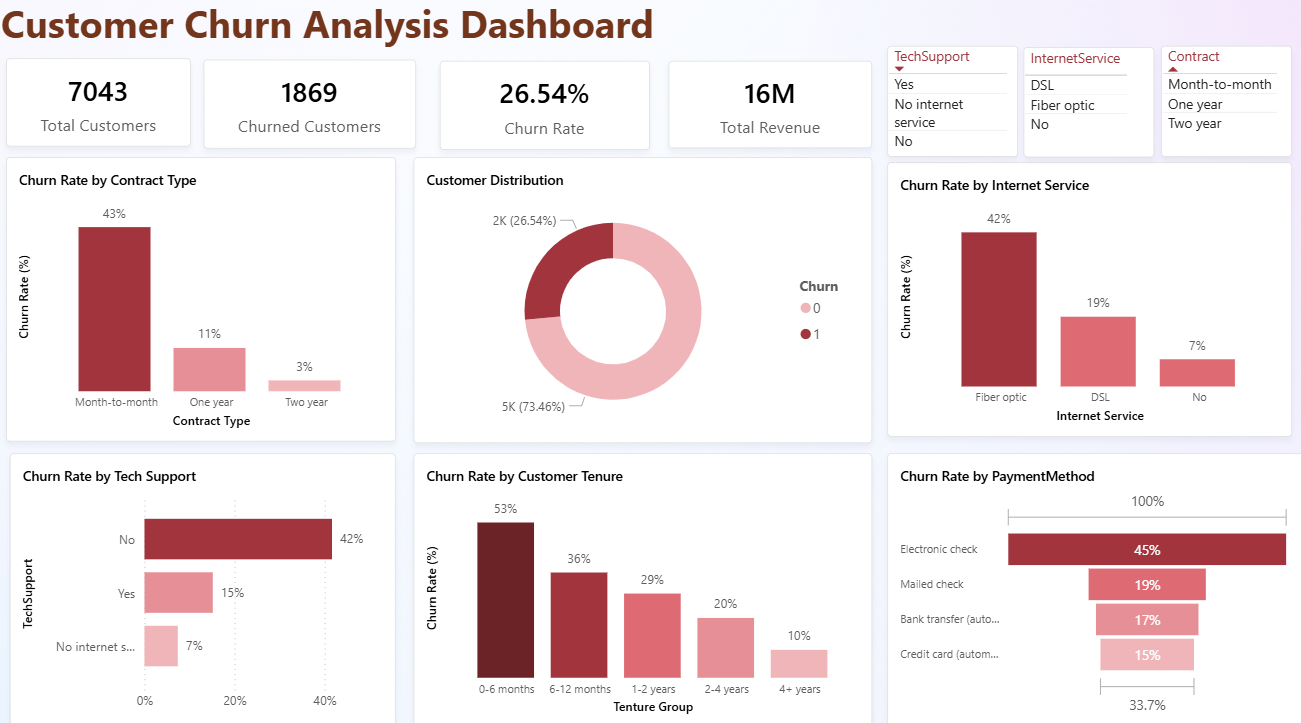

The page's visual inventory and layout, read from the dashboard file:
{"tool":"powerbi","page":{"name":"Page 1","canvas":[1280,720],"ordinal":0},"visuals":[{"type":"card","fields":{"Values":["Detailed Table.Total Customers"]},"box":[9.6,64.5,181.1,86.4],"z":0},{"type":"card","fields":{"Values":["Detailed Table.Churned Customers"]},"box":[203,66,207.9,86.8],"z":1000},{"type":"card","fields":{"Values":["Detailed Table.Churn Rate"]},"box":[434.1,67.3,205.4,86.8],"z":2000},{"type":"card","fields":{"Values":["Detailed Table.Total Revenue"]},"box":[657.9,67.3,199.3,85.6],"z":3000},{"type":"textbox","box":[0,0,662.8,65.9],"z":4000},{"type":"clusteredColumnChart","title":"Churn Rate by Contract Type","fields":{"Category":["Detailed Table.Contract"],"Y":["Avg(Detailed Table.Churn)"]},"box":[9.6,161.9,381.5,278.6],"z":5000},{"type":"clusteredColumnChart","title":"Churn Rate by Customer Tenure","fields":{"Category":["Detailed Table.Tenure Group"],"Y":["Avg(Detailed Table.Churn)"]},"box":[408.4,451.2,448.8,269],"z":6000},{"type":"funnel","title":" Churn Rate by PaymentMethod","fields":{"Category":["Detailed Table.PaymentMethod"],"Y":["Avg(Detailed Table.Churn)"]},"box":[871.9,451.2,408.4,269],"z":7000},{"type":"clusteredColumnChart","title":"Churn Rate by Internet Service","fields":{"Category":["Detailed Table.InternetService"],"Y":["Avg(Detailed Table.Churn)"]},"box":[871.9,166.3,396.2,269],"z":8000},{"type":"clusteredBarChart","title":"Churn Rate by Tech Support","fields":{"Category":["Detailed Table.TechSupport"],"Y":["Avg(Detailed Table.Churn)"]},"box":[13.7,451.5,377.4,269],"z":9000},{"type":"tableEx","title":"CONTRACT TYPE","fields":{"Values":["Detailed Table.InternetService"]},"box":[1005.2,53.8,128.4,107.6],"z":10000},{"type":"tableEx","title":"CONTRACT TYPE","fields":{"Values":["Detailed Table.Contract"]},"box":[1139.7,52.6,128.4,108.8],"z":11000},{"type":"donutChart","title":"Customer Distribution","fields":{"Category":["Detailed Table.Churn"],"Y":["CountNonNull(Detailed Table.customerID)"]},"box":[408.4,161.4,448.8,280],"z":12000},{"type":"tableEx","title":"CONTRACT TYPE","fields":{"Values":["Detailed Table.TechSupport"]},"box":[871.9,52.6,128.4,108.8],"z":13000}]}

Visuals, with their boxes in screenshot pixels (x1, y1, x2, y2), scaled from the page's 1280x720 canvas onto the 1301x723 screenshot:
card - Detailed Table.Total Customers: region(10, 65, 194, 152)
card - Detailed Table.Churned Customers: region(206, 66, 418, 153)
card - Detailed Table.Churn Rate: region(441, 68, 650, 155)
card - Detailed Table.Total Revenue: region(669, 68, 871, 154)
textbox: region(0, 0, 674, 66)
"Churn Rate by Contract Type" clusteredColumnChart: region(10, 163, 398, 442)
"Churn Rate by Customer Tenure" clusteredColumnChart: region(415, 453, 871, 722)
" Churn Rate by PaymentMethod" funnel: region(886, 453, 1300, 722)
"Churn Rate by Internet Service" clusteredColumnChart: region(886, 167, 1289, 437)
"Churn Rate by Tech Support" clusteredBarChart: region(14, 453, 398, 722)
"CONTRACT TYPE" tableEx: region(1022, 54, 1152, 162)
"CONTRACT TYPE" tableEx: region(1158, 53, 1289, 162)
"Customer Distribution" donutChart: region(415, 162, 871, 443)
"CONTRACT TYPE" tableEx: region(886, 53, 1017, 162)
